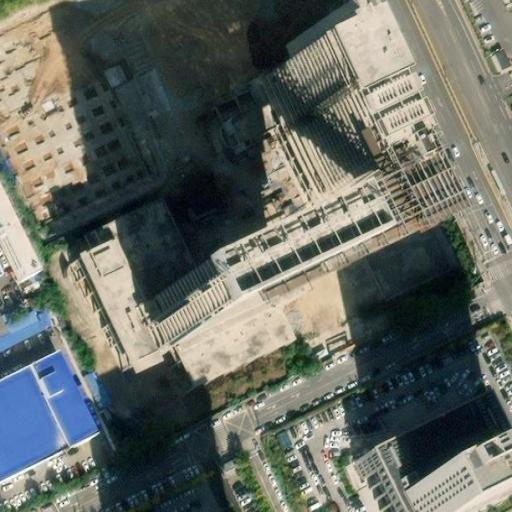building: (128, 223, 316, 352), (292, 152, 461, 272), (68, 204, 187, 369), (353, 402, 490, 509), (351, 75, 437, 176), (377, 450, 512, 512), (0, 307, 52, 352), (230, 99, 278, 139)
